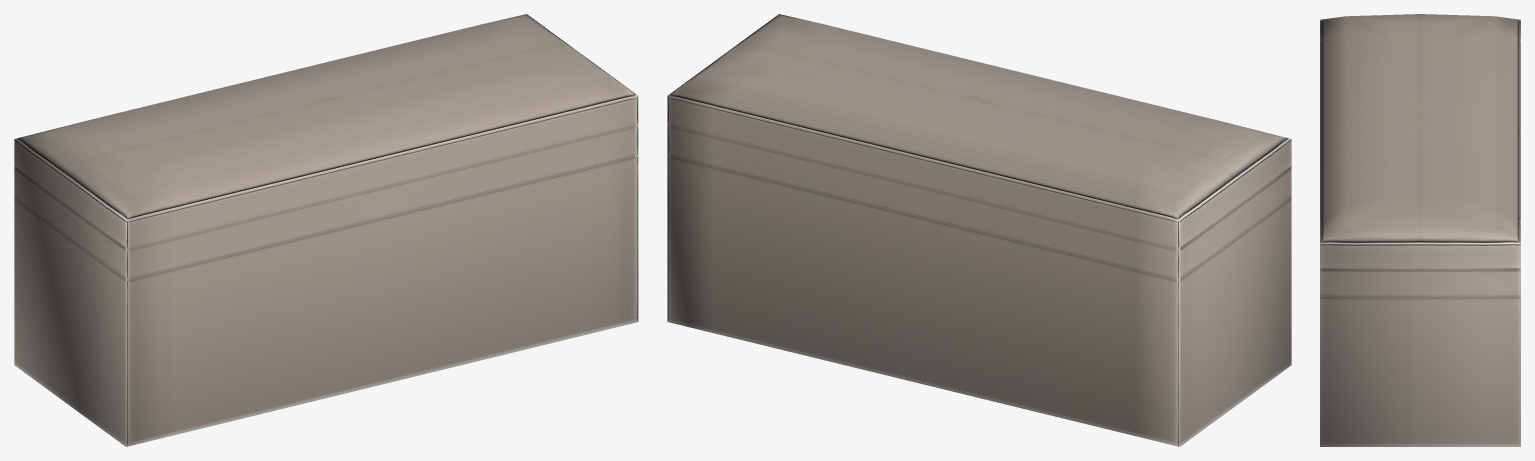
Rendered from BedSeat.FBX.
3 renders of one model, left to right at view 1: azimuth 30°, elevation 25°; view 2: azimuth 150°, elevation 25°; view 3: azimuth 270°, elevation 25°, orthographic. The views are drawn at different scales.
Visible parts, largest first — view 1: BedSeat; view 2: BedSeat; view 3: BedSeat.
Part boxes in pixels (<box>): BedSeat: <box>14,14,638,446</box>; BedSeat: <box>667,14,1291,446</box>; BedSeat: <box>1320,14,1520,446</box>.
Size of the model in its own units: 138 by 52.34 by 62.76.
